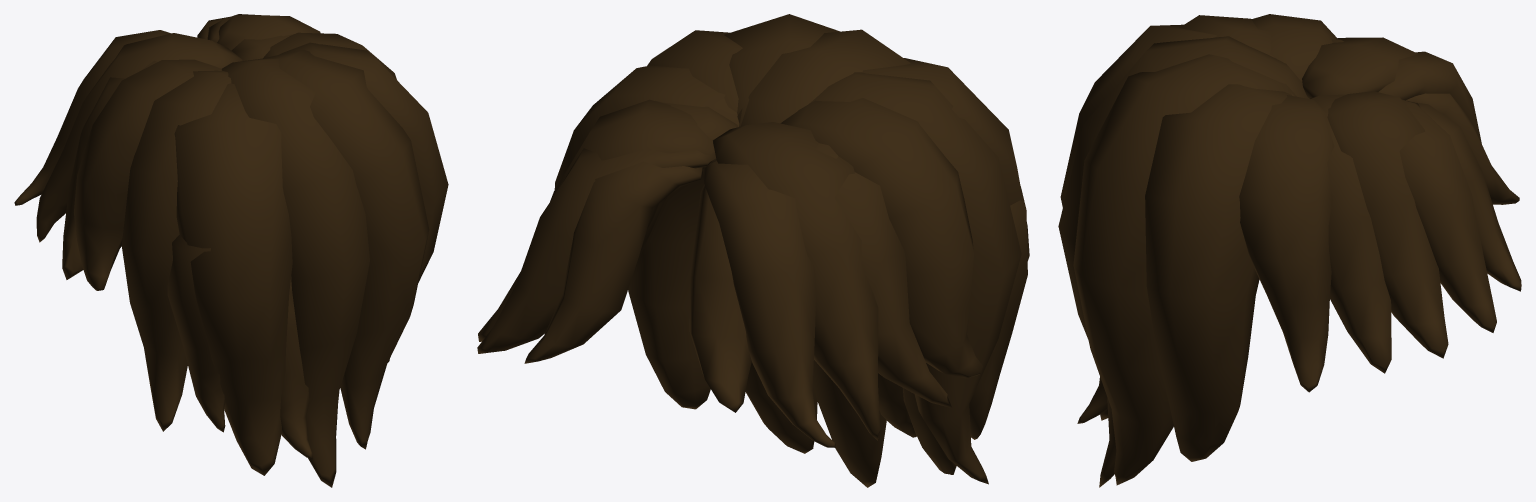
3 renders of one model, left to right at view 1: azimuth 30°, elevation 25°; view 2: azimuth 150°, elevation 25°; view 3: azimuth 270°, elevation 25°, orthographic. The views are drawn at different scales.
Parts seen in each view (by area): view 1: geometry_0; view 2: geometry_0; view 3: geometry_0.
Part boxes in pixels (left/top/right/bottom): geometry_0: left=14, top=14, right=448, bottom=487; geometry_0: left=477, top=14, right=1029, bottom=487; geometry_0: left=1058, top=14, right=1521, bottom=487.
Size of the model in its own units: 1.5 by 1.66 by 1.59.
1 material, 1 textured.
